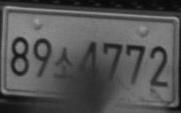2: (149, 44, 168, 89)
4: (77, 41, 99, 81)
7: (125, 43, 146, 84), (101, 41, 123, 80)
8: (10, 35, 29, 75)
9: (32, 37, 52, 77)
소: (53, 45, 74, 79)
